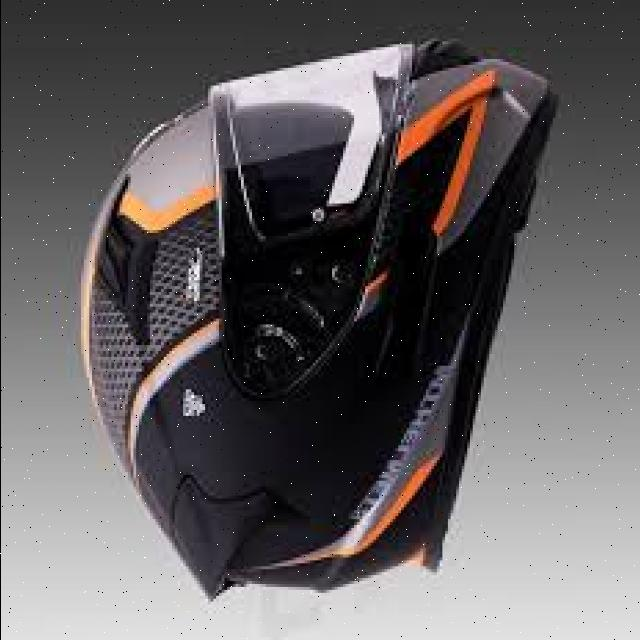Helmet: (81, 40, 551, 599)
